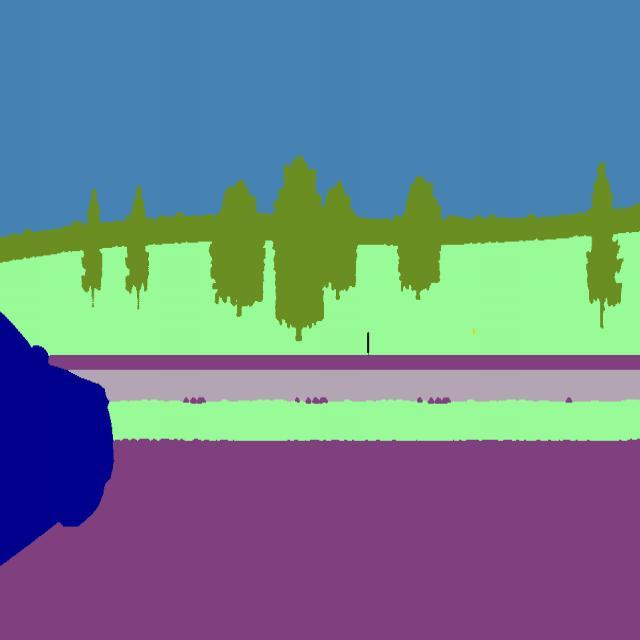unsafe: (0, 297, 119, 572)
